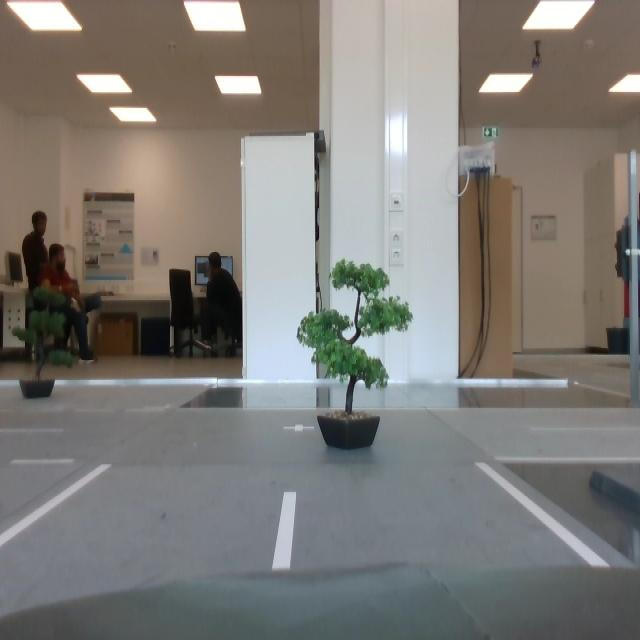potted plant: (296, 256, 417, 456), (13, 284, 75, 399)
